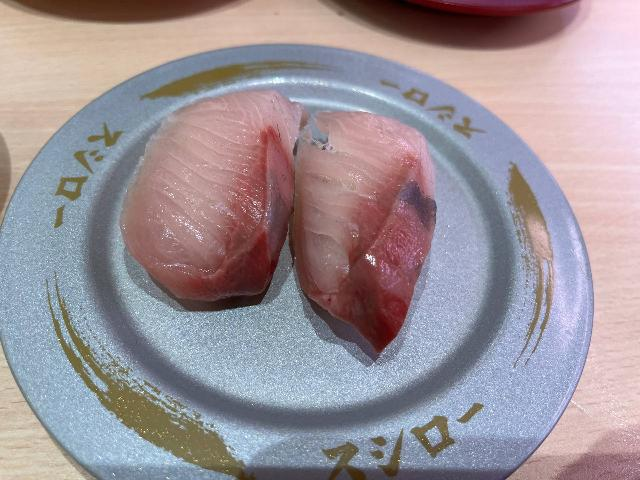janwhite: (5, 43, 577, 480)
